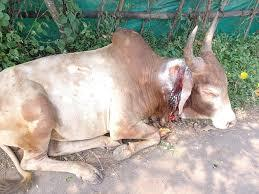bleeding: (167, 76, 187, 117)
